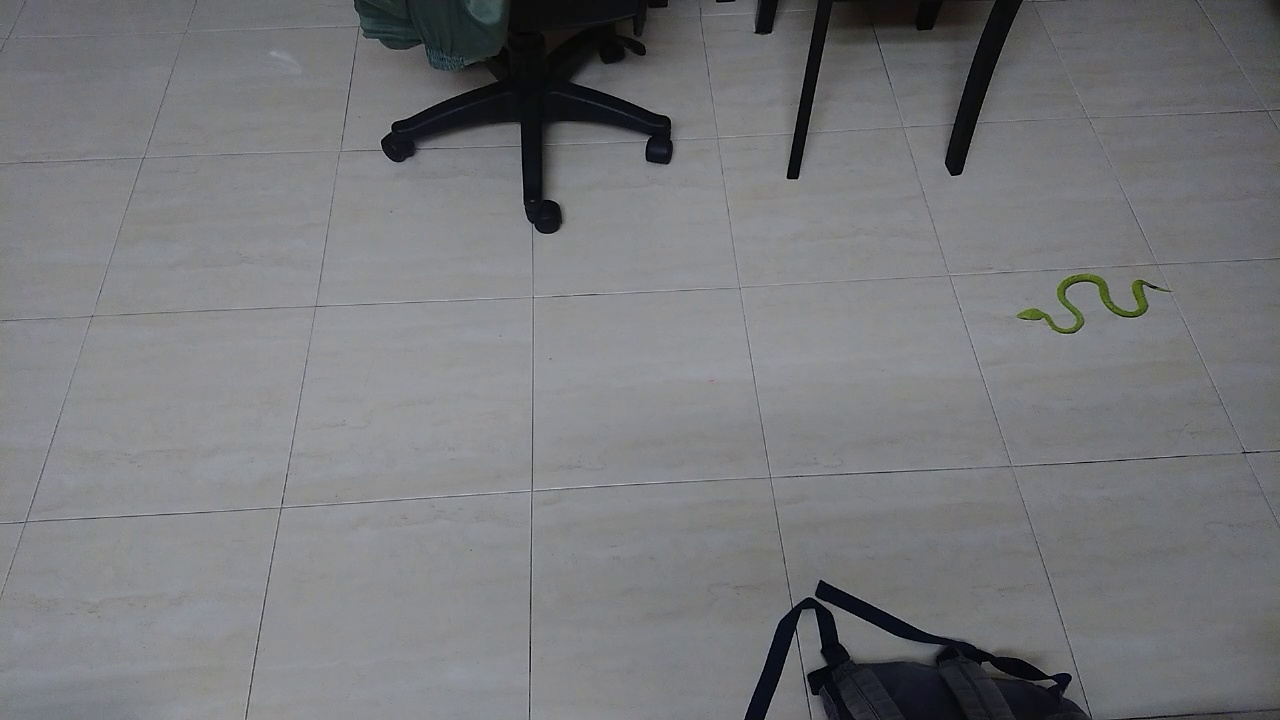snake: (1001, 258, 1186, 346)
